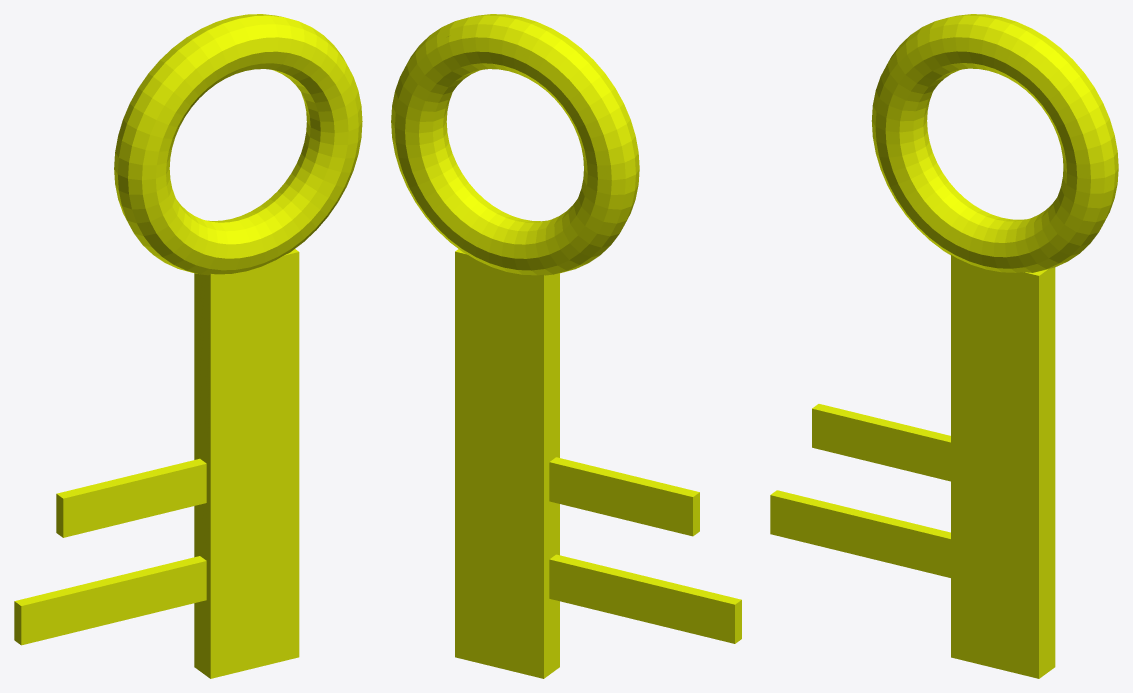
The model's file is key.obj.
The picture shows the model from 3 angles, left to right: view 1: azimuth 30°, elevation 25°; view 2: azimuth 150°, elevation 25°; view 3: azimuth 330°, elevation 25°; orthographic projection.
Visible parts, largest first — view 1: Cube.001, Torus, Cube.002, Cube.003; view 2: Cube.001, Torus, Cube.002, Cube.003; view 3: Cube.001, Torus, Cube.002, Cube.003.
Part boxes in pixels (x1,y1,x2,y2): Cube.001: (194, 249, 299, 678); Torus: (114, 14, 362, 275); Cube.002: (14, 556, 206, 645); Cube.003: (56, 458, 206, 537); Cube.001: (455, 249, 559, 678); Torus: (391, 14, 639, 275); Cube.002: (549, 554, 741, 643); Cube.003: (549, 457, 699, 536); Cube.001: (951, 255, 1055, 678); Torus: (871, 14, 1118, 272); Cube.002: (770, 490, 950, 577); Cube.003: (812, 404, 950, 481).
Size of the model in its own units: 0.9475 by 1.71 by 0.1335.
